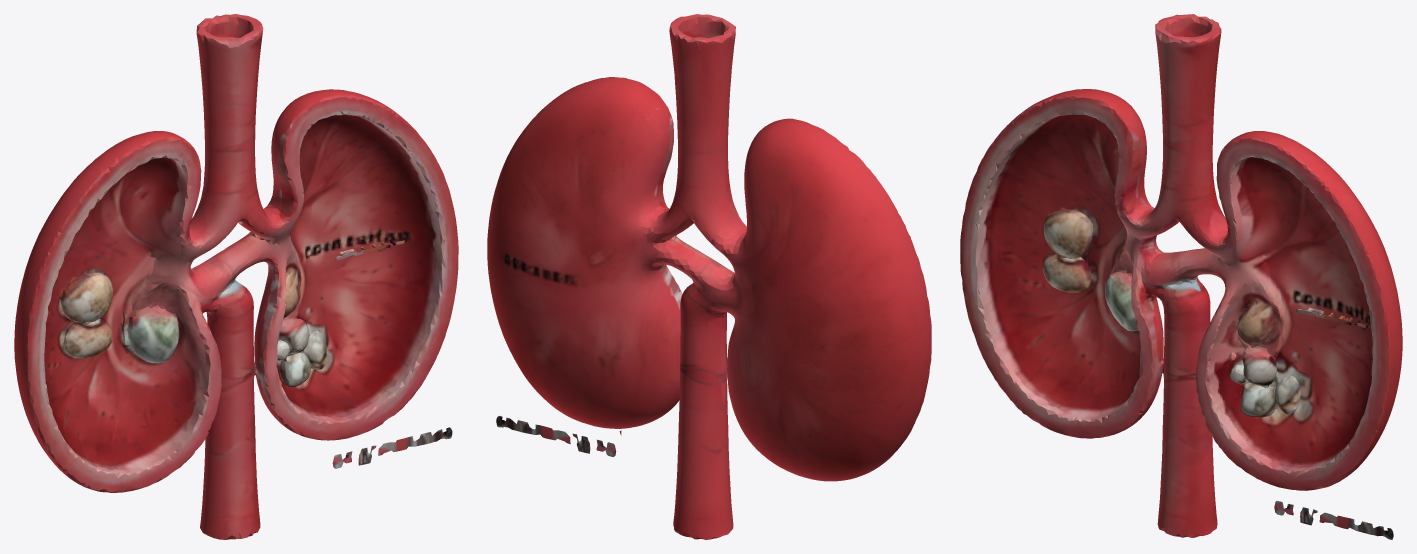
The model's file is kidney_stones.glb.
3 renders of one model, left to right at view 1: azimuth 30°, elevation 25°; view 2: azimuth 150°, elevation 25°; view 3: azimuth 330°, elevation 25°, orthographic.
Parts seen in each view (by area): view 1: model; view 2: model; view 3: model.
Boxes of the visible parts, x1=… form: model: x1=14, y1=14, x2=458, y2=539; model: x1=487, y1=14, x2=931, y2=539; model: x1=960, y1=14, x2=1402, y2=539.
Size of the model in its own units: 1.68 by 1.86 by 0.2838.
1 material, 1 textured.
